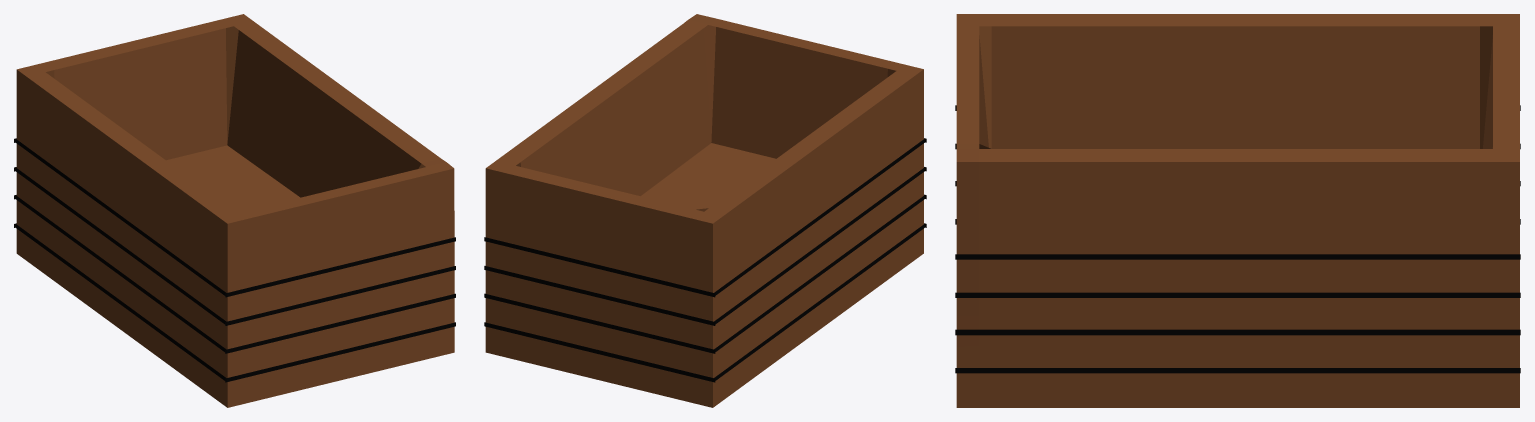
The model's file is ChestBody.fbx.
3 renders of one model, left to right at view 1: azimuth 30°, elevation 25°; view 2: azimuth 150°, elevation 25°; view 3: azimuth 270°, elevation 25°, orthographic. The views are drawn at different scales.
Parts seen in each view (by area): view 1: Cube, ChestSide.003, ChestSide; view 2: Cube, ChestSide.004, ChestSide; view 3: Cube, ChestSide.002.
Boxes of the visible parts, x1,y1,x2,y2 form: Cube: (16,14,454,407); ChestSide.003: (225,237,455,382); ChestSide: (15,139,226,381); Cube: (485,14,923,407); ChestSide.004: (484,237,715,382); ChestSide: (714,138,924,380); Cube: (956,14,1519,407); ChestSide.002: (955,254,1520,373).
Size of the model in its own units: 203 by 155 by 323.
6 materials, 4 textured.
